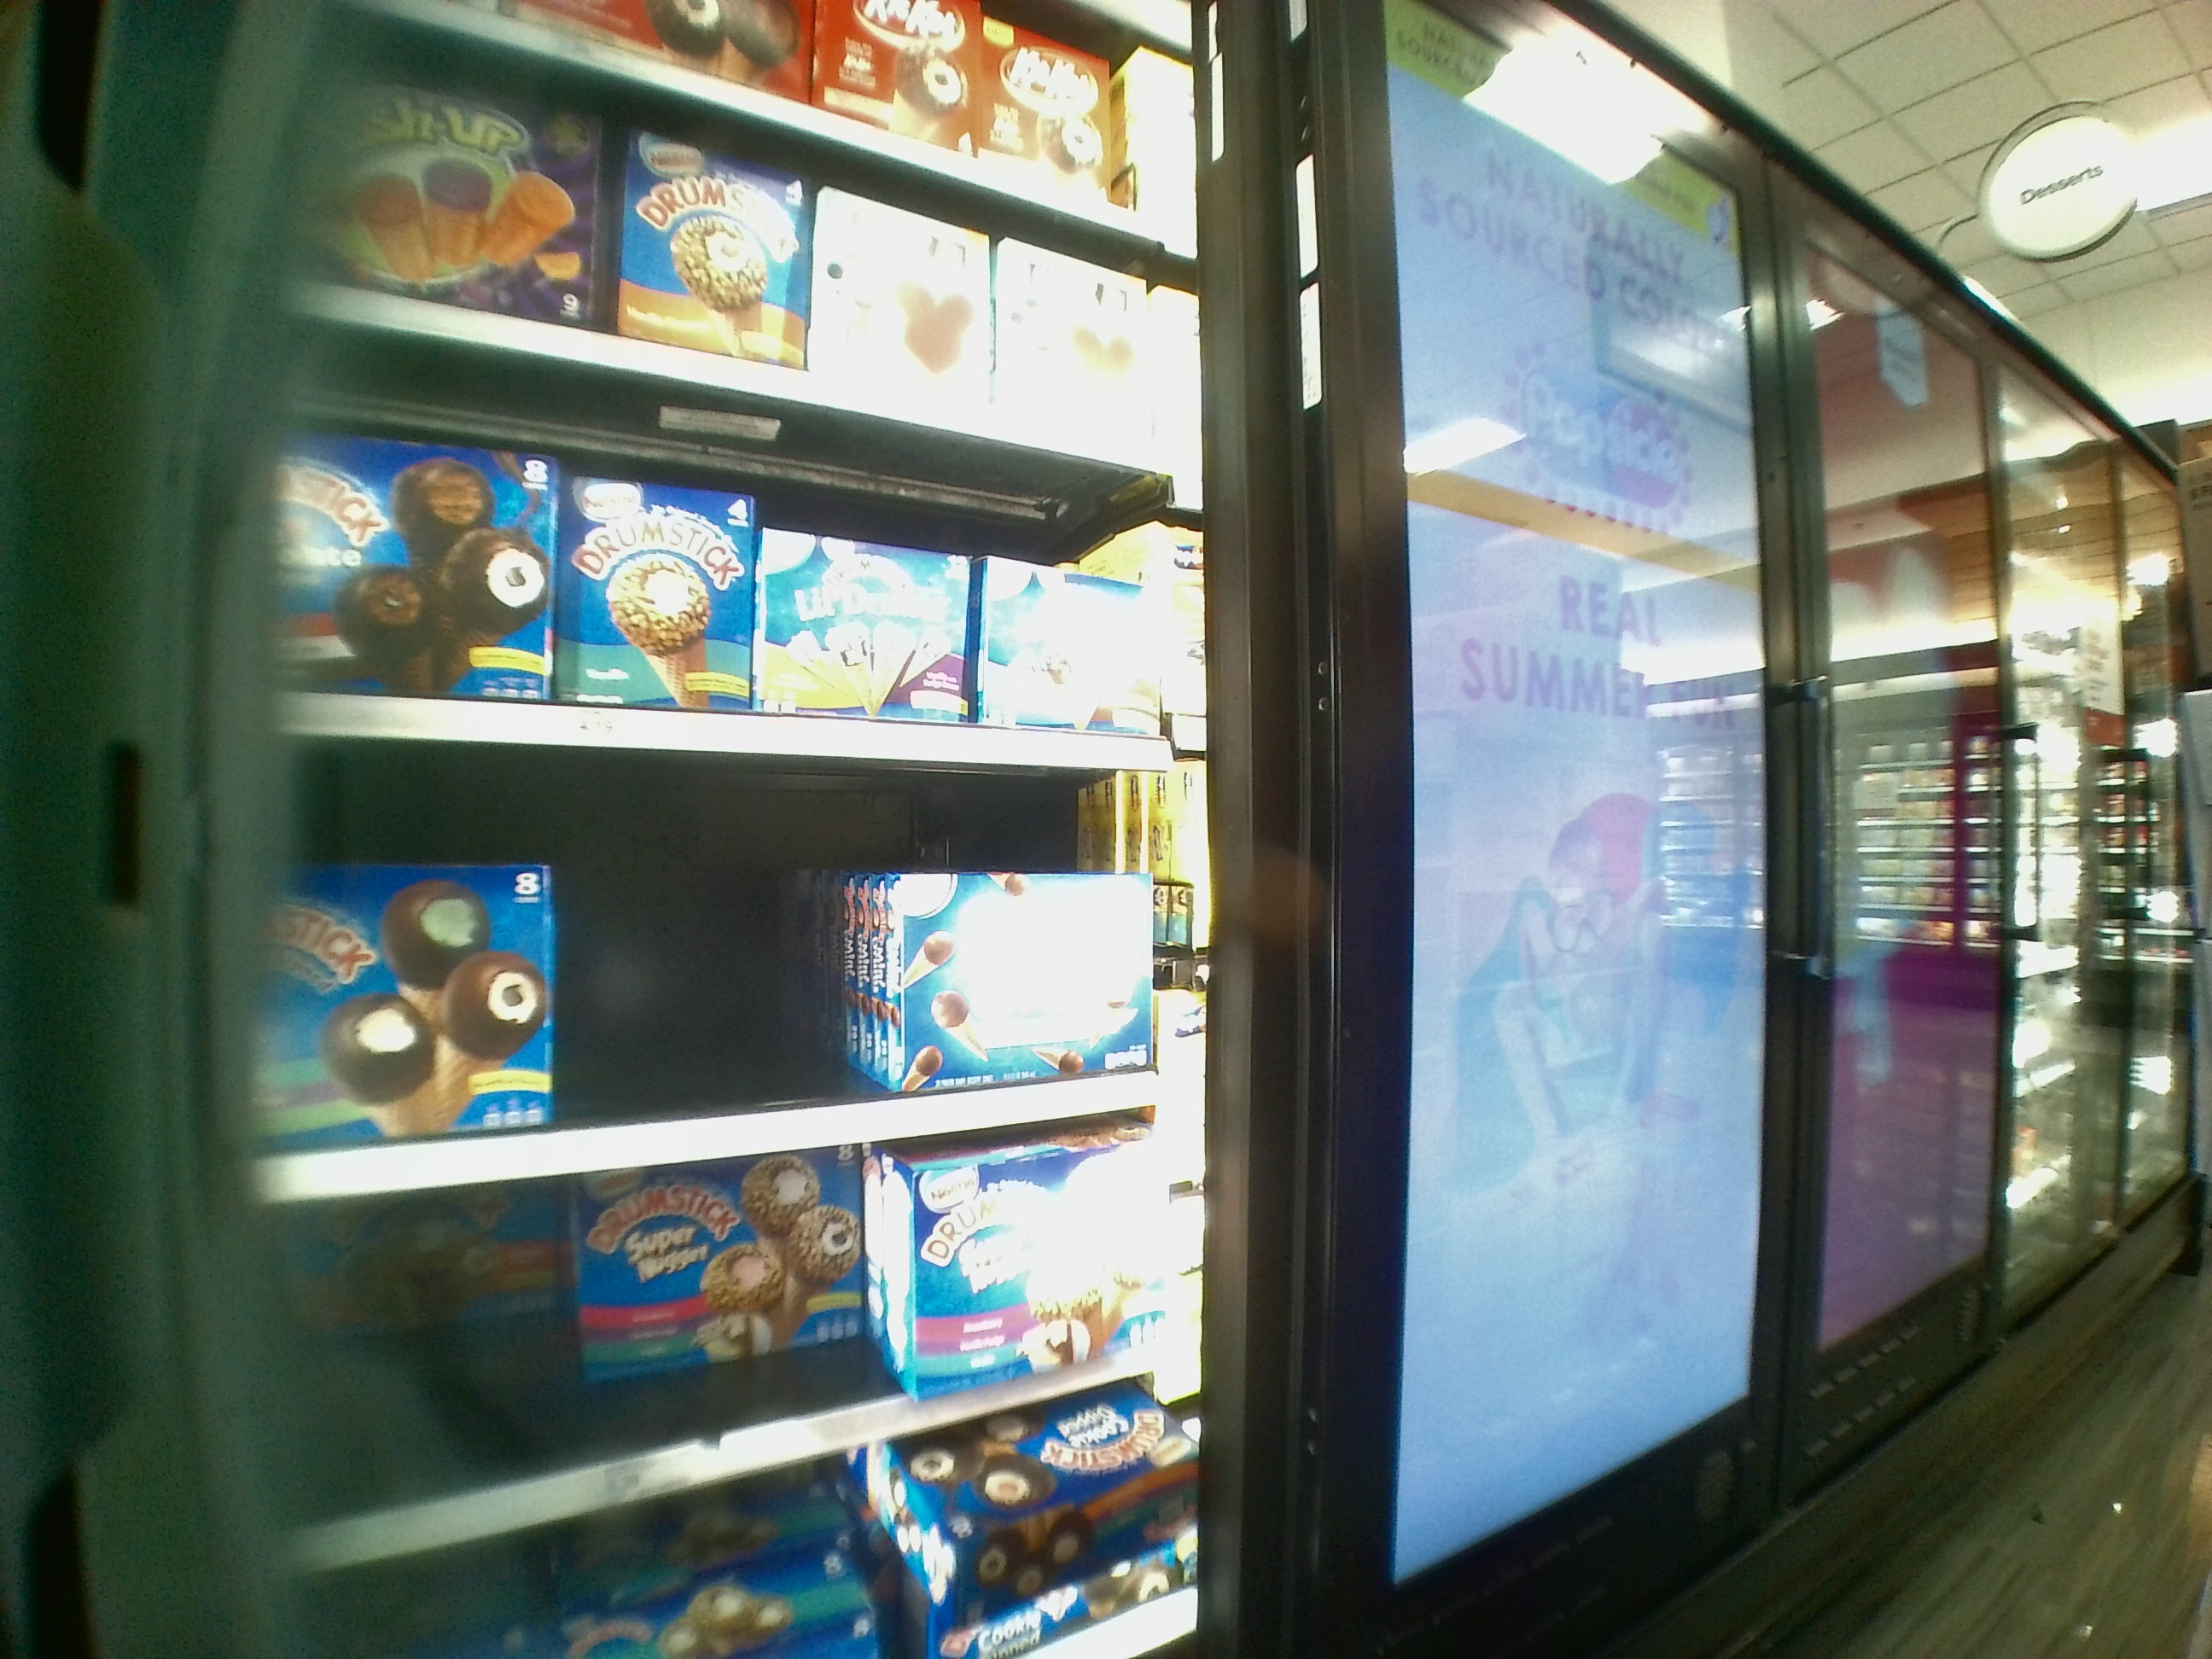shelf: (275, 751, 1197, 1176), (279, 418, 1209, 755), (268, 1133, 1207, 1448)
